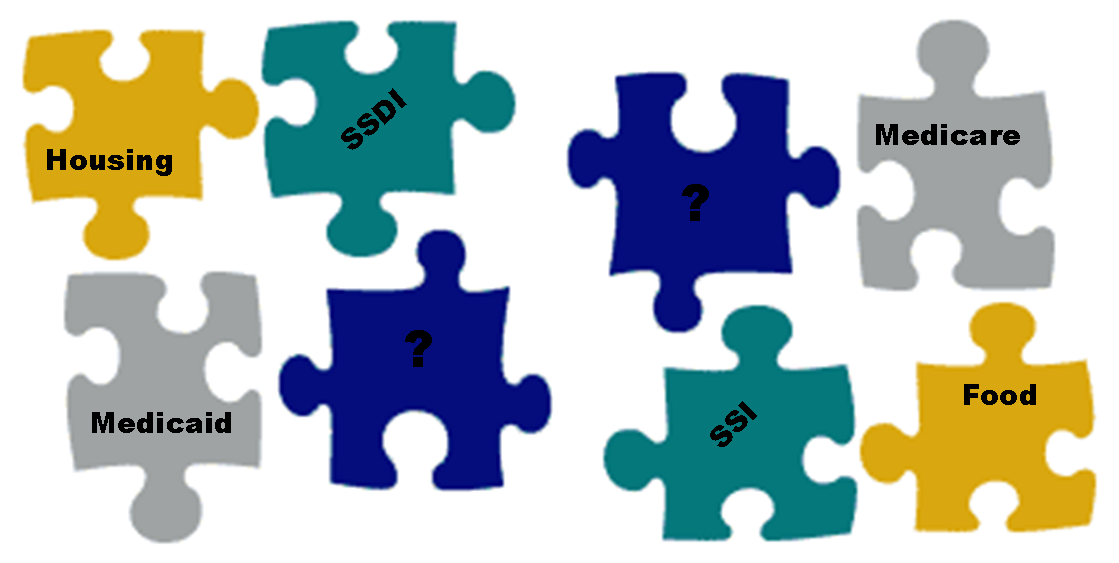puzzle piece: (556, 64, 853, 333), (274, 225, 558, 505), (839, 10, 1078, 300), (247, 17, 538, 255), (595, 309, 857, 557), (13, 19, 257, 269), (856, 302, 1111, 539), (55, 263, 271, 542)
